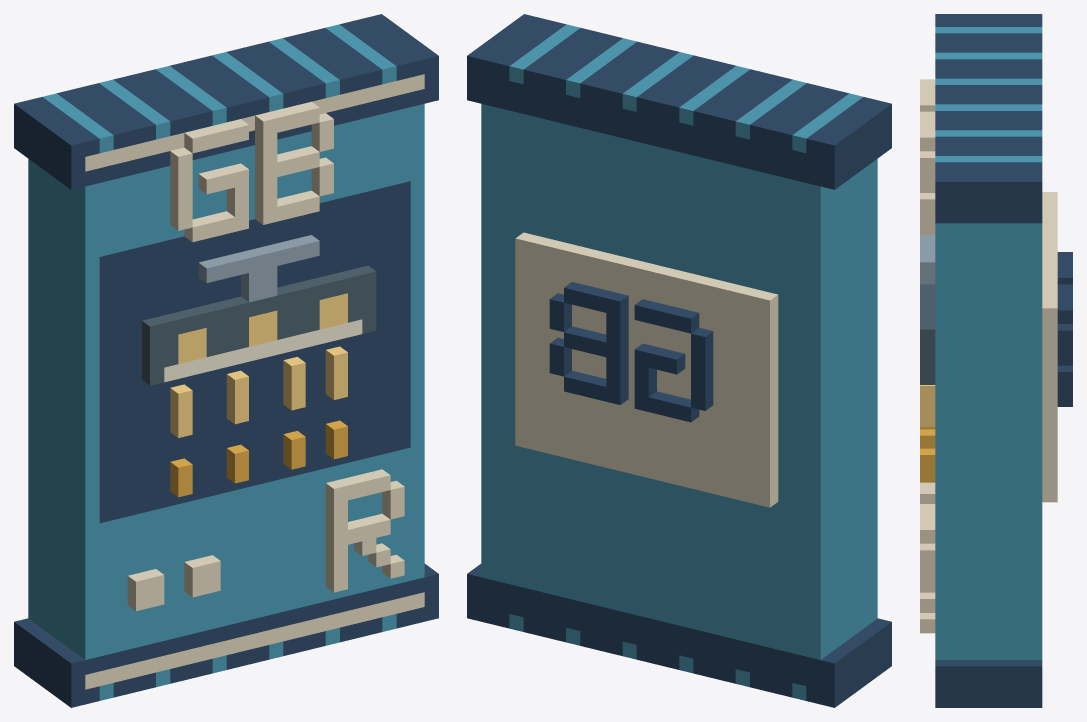
File: booster_rare.glb
3 renders of one model, left to right at view 1: azimuth 30°, elevation 25°; view 2: azimuth 150°, elevation 25°; view 3: azimuth 270°, elevation 25°, orthographic. The views are drawn at different scales.
Visible parts, largest first — view 1: booster_rare; view 2: booster_rare; view 3: booster_rare.
Boxes of the visible parts, x1=… form: booster_rare: x1=14, y1=14, x2=438, y2=707; booster_rare: x1=467, y1=14, x2=891, y2=707; booster_rare: x1=920, y1=14, x2=1072, y2=707.
Bounding box in the file's own units: 1.3 × 1.9 × 0.5.
1 material, 1 textured.
